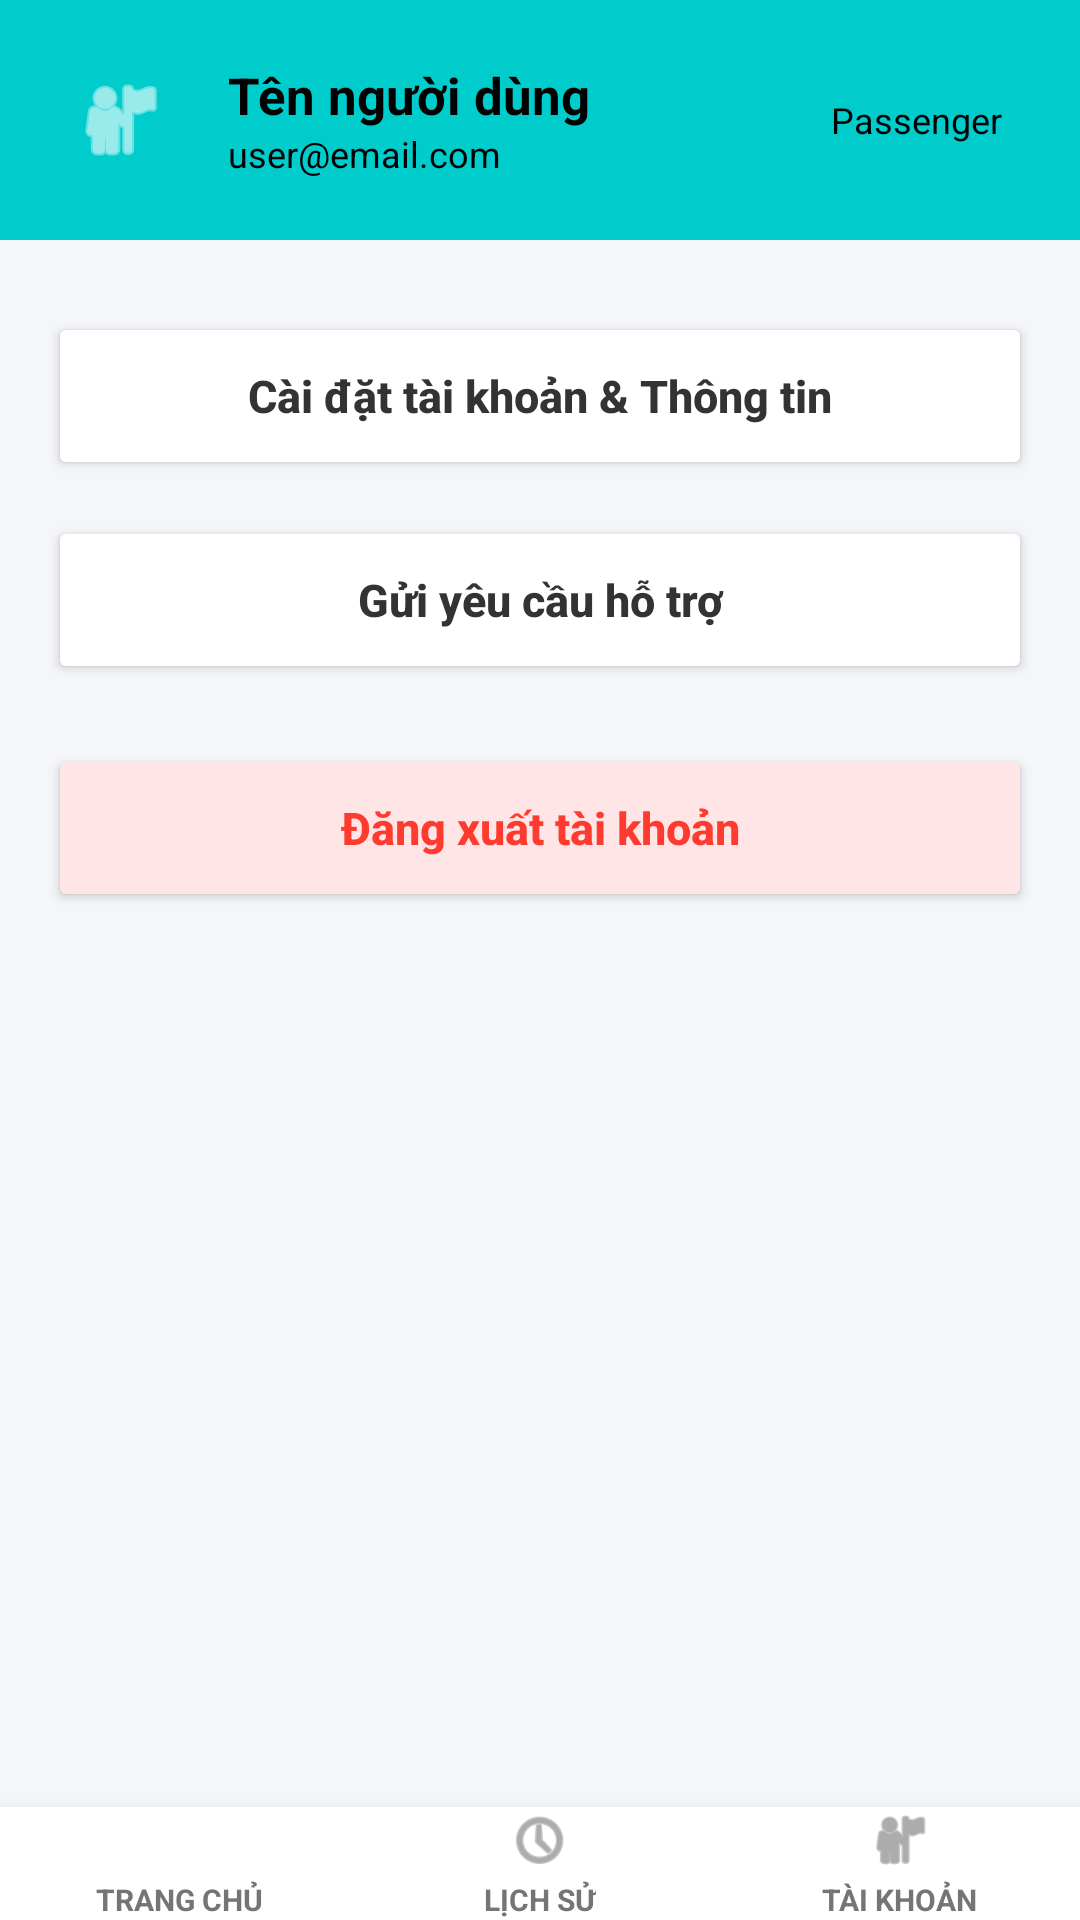

Icon bounding boxes for this 1080px×1920px phone screenshot, format bbox=[x1, y1, x2, y2]:
myplaces: bbox=[85, 84, 157, 156], bbox=[876, 1816, 925, 1864]
